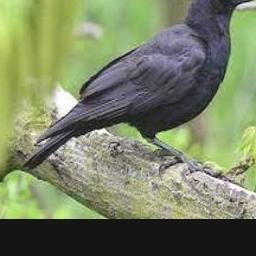Crow: (23, 0, 256, 172)
